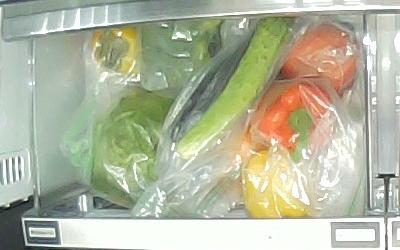apple_vinyl: (282, 24, 358, 100)
broccoli_vinyl: (140, 20, 221, 89)
cucumber_vinyl: (177, 16, 297, 161)
eggplant_vinyl: (171, 41, 247, 140)
lettuce_vinyl: (90, 88, 175, 206)
paprika_vinyl: (245, 80, 335, 157), (241, 149, 310, 218)
persimmon_vinyl: (89, 26, 142, 78)
